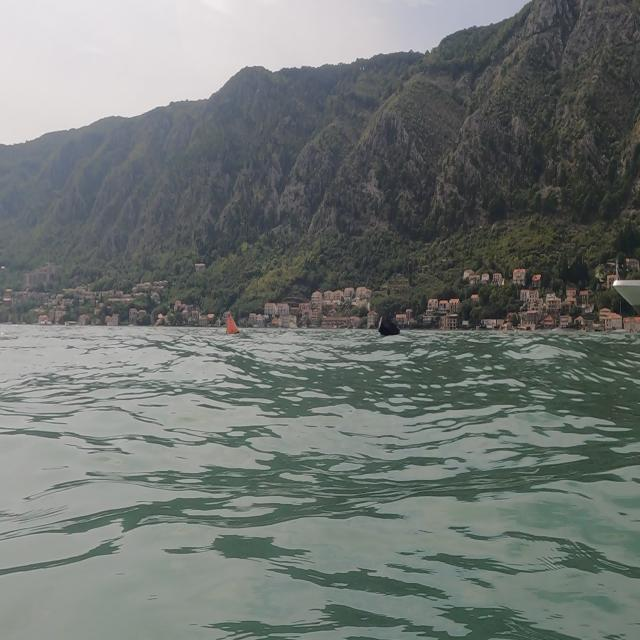buoy: (220, 302, 246, 349), (372, 310, 404, 348)
